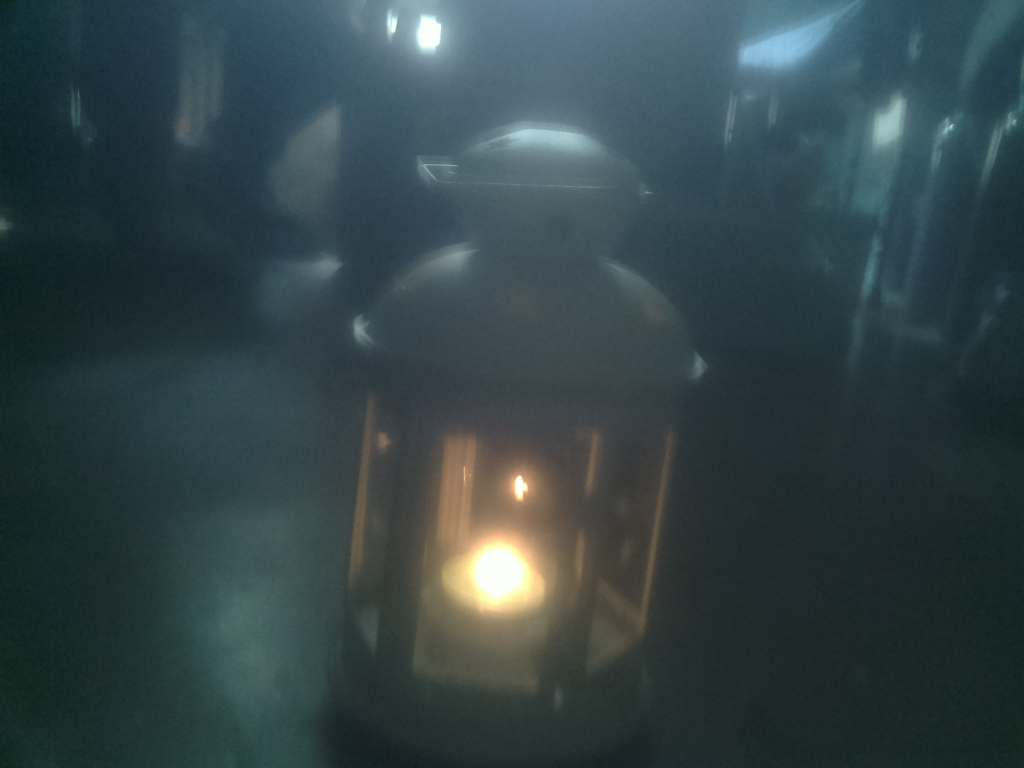fire: (423, 520, 576, 644)
